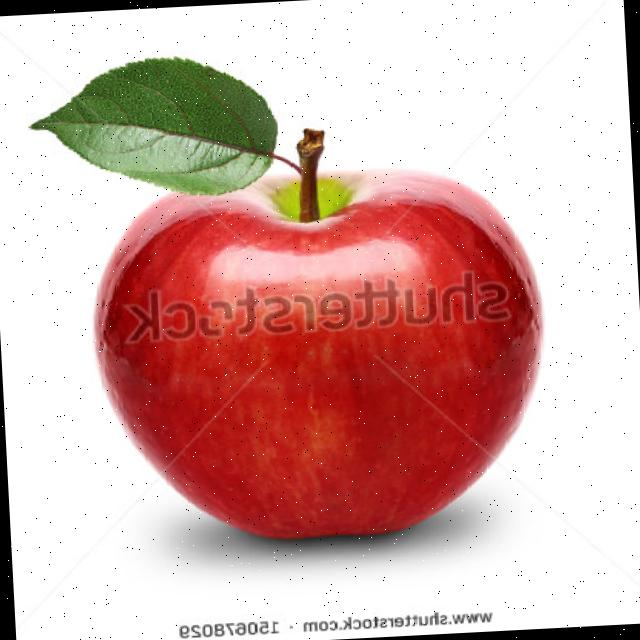Apel: (83, 131, 556, 551)
